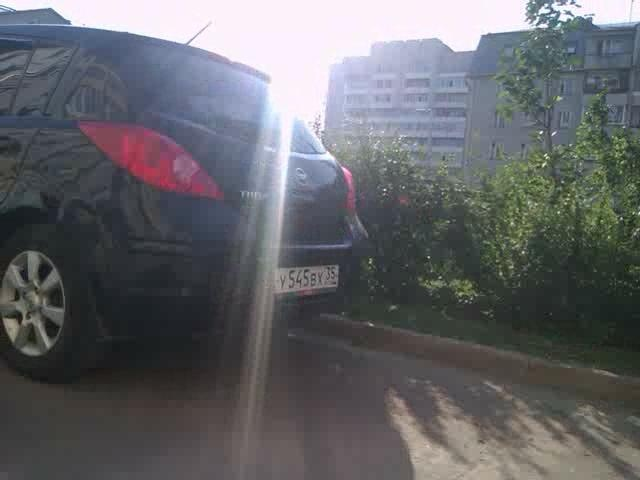car license plate: (266, 261, 339, 297)
